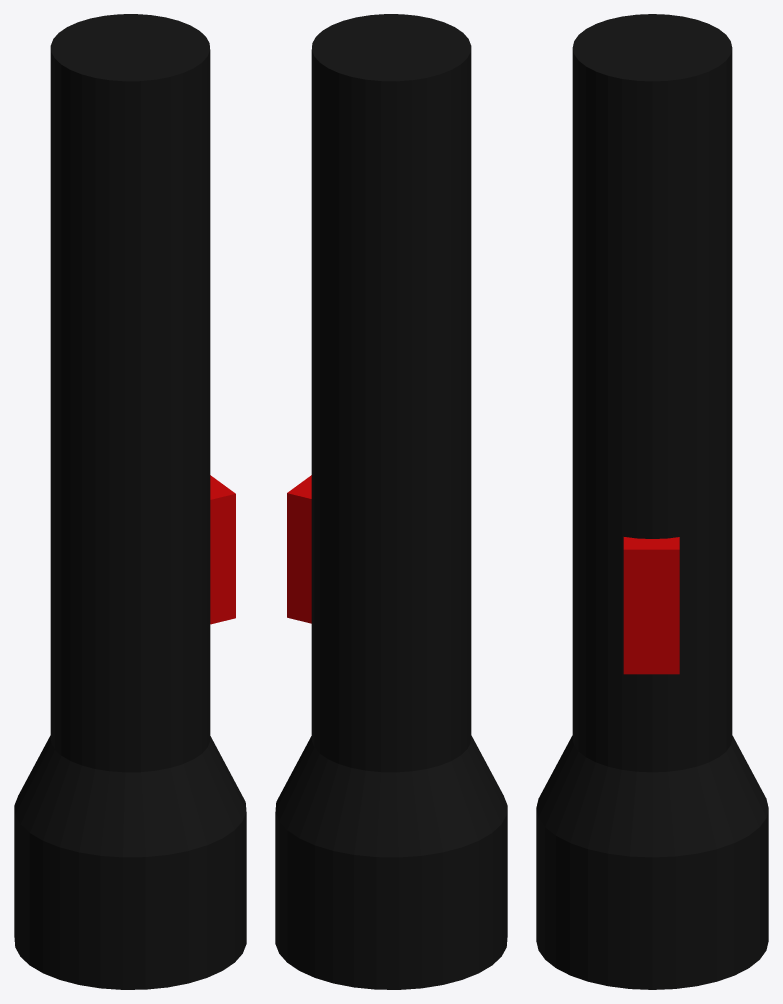
Rendered from Flashlight.fbx.
3 renders of one model, left to right at view 1: azimuth 30°, elevation 25°; view 2: azimuth 150°, elevation 25°; view 3: azimuth 270°, elevation 25°, orthographic.
Parts seen in each view (by area): view 1: Cylinder, Cube; view 2: Cylinder, Cube; view 3: Cylinder, Cube.
Part boxes in pixels (<box>): Cylinder: <box>14,14,246,989</box>; Cube: <box>210,475,235,624</box>; Cylinder: <box>275,14,507,989</box>; Cube: <box>287,475,311,623</box>; Cylinder: <box>536,14,768,989</box>; Cube: <box>623,537,679,674</box>.
Size of the model in its own units: 200 by 848 by 200.
